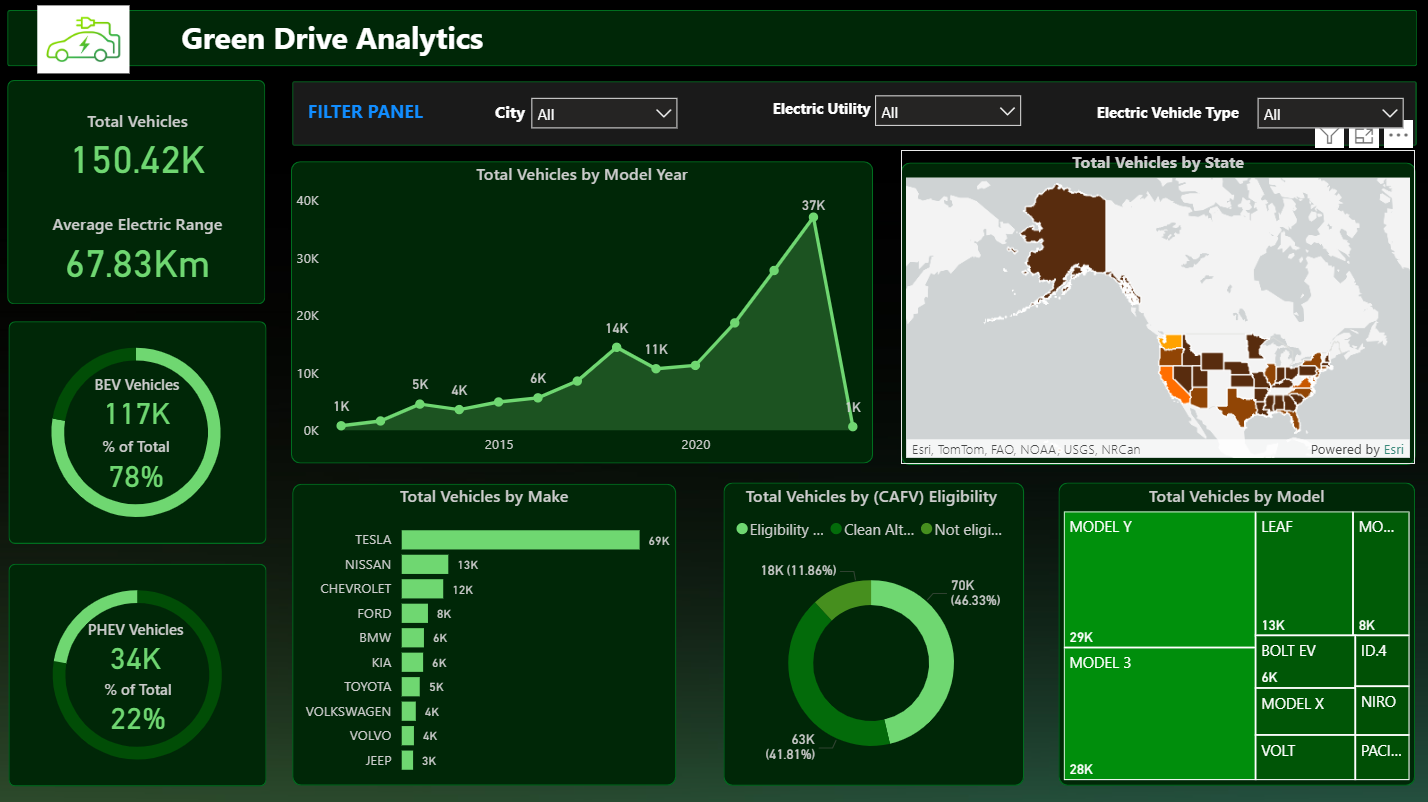

The dashboard page shown, as its layout file describes it:
{"tool":"powerbi","page":{"name":"Page 1","canvas":[1280,720],"ordinal":0},"visuals":[{"type":"shape","box":[10,8.9,1259.6,50.2],"z":0},{"type":"textbox","box":[160.8,10,298.1,50.2],"z":1000},{"type":"shape","box":[9.6,71.4,230.5,200.3],"z":2000},{"type":"image","box":[31.4,0,94.2,70.9],"z":3000},{"type":"card","title":"Total Vehicles","fields":{"Values":["Electric_Vehicle_Population_Data.Total Vehicles"]},"box":[11,97.4,230.5,65.9],"z":4000},{"type":"card","title":"Average Electric Range","fields":{"Values":["Electric_Vehicle_Population_Data.Avg Range"]},"box":[11,189.4,230.5,65.9],"z":5000},{"type":"shape","box":[11,286.8,230.5,199],"z":6000},{"type":"shape","box":[11,503.6,230.5,199],"z":7000},{"type":"donutChart","fields":{"Category":["Electric_Vehicle_Population_Data.Electric Vehicle Type"],"Y":["Electric_Vehicle_Population_Data.Total Vehicles"]},"box":[9.6,286.8,230.5,199],"z":8000},{"type":"card","title":"BEV Vehicles","fields":{"Values":["Electric_Vehicle_Population_Data.BEV Vehicles"]},"box":[64.5,333.4,122.1,50.8],"z":9000},{"type":"card","title":"% of Total","fields":{"Values":["Electric_Vehicle_Population_Data.% of BEV"]},"box":[64.5,389.7,120.8,52.1],"z":10000},{"type":"donutChart","fields":{"Category":["Electric_Vehicle_Population_Data.Electric Vehicle Type"],"Y":["Electric_Vehicle_Population_Data.Total Vehicles"]},"box":[11,503.6,230.5,199],"z":11000},{"type":"card","title":"PHEV Vehicles","fields":{"Values":["Electric_Vehicle_Population_Data.PHEV Vehicles"]},"box":[63.1,553,122.1,50.8],"z":12000},{"type":"card","title":"% of Total","fields":{"Values":["Electric_Vehicle_Population_Data.% of PHEV"]},"box":[65.9,606.5,122.1,50.8],"z":13000},{"type":"shape","box":[264.8,72.7,1004.5,57.6],"z":14000},{"type":"shape","box":[263.5,144.1,520,270],"z":15000},{"type":"areaChart","fields":{"Category":["Electric_Vehicle_Population_Data.Model Year"],"Y":["Electric_Vehicle_Population_Data.Total Vehicles"]},"box":[263.5,145.5,520.1,270.3],"z":16000},{"type":"shape","box":[808.2,145.5,459.7,270.3],"z":17000},{"type":"esriVisual","fields":{"Location":["Electric_Vehicle_Population_Data.State"],"Color":["Electric_Vehicle_Population_Data.Total Vehicles"]},"box":[808.2,134.5,459.7,279.9],"z":18000},{"type":"shape","box":[265.1,432.6,343,269.8],"z":19000},{"type":"barChart","fields":{"Category":["Electric_Vehicle_Population_Data.Make"],"Y":["Electric_Vehicle_Population_Data.Total Vehicles"]},"box":[265.1,432.6,343,269.8],"z":20000},{"type":"shape","box":[650,431.4,268.6,270.9],"z":21000},{"type":"donutChart","title":"Total Vehicles by (CAFV) Eligibility","fields":{"Category":["Electric_Vehicle_Population_Data.Clean Alternative Fuel Vehicle (CAFV) Eligibility"],"Y":["Electric_Vehicle_Population_Data.Total Vehicles"]},"box":[647.7,432.6,268.6,270.9],"z":22000},{"type":"shape","box":[948.8,431.4,318.6,270.9],"z":23000},{"type":"treemap","fields":{"Group":["Electric_Vehicle_Population_Data.Model"],"Values":["Electric_Vehicle_Population_Data.Total Vehicles"]},"box":[948.8,432.6,318.6,269.8],"z":24000},{"type":"textbox","box":[273.3,82.6,120.9,39.5],"z":25000},{"type":"slicer","fields":{"Values":["Electric_Vehicle_Population_Data.City"]},"box":[467.4,76.7,151.2,54.7],"z":26000},{"type":"textbox","box":[425.6,84.9,67.4,38.4],"z":27000},{"type":"slicer","fields":{"Values":["Electric_Vehicle_Population_Data.Electric Utility"]},"box":[774.4,74.4,151.2,54.7],"z":28000},{"type":"textbox","box":[665.1,82.6,144.2,38.4],"z":29000},{"type":"slicer","fields":{"Values":["Electric_Vehicle_Population_Data.Electric Vehicle Type"]},"box":[1116.3,76.7,151.2,54.7],"z":30000},{"type":"textbox","box":[976.7,86,139.5,38.4],"z":31000}]}

Visuals, with their boxes in screenshot pixels (x1, y1, x2, y2), scaled from the page's 1280x720 canvas onto the 1428x802 screenshot:
shape: <bbox>11, 10, 1416, 66</bbox>
textbox: <bbox>179, 11, 512, 67</bbox>
shape: <bbox>11, 80, 268, 303</bbox>
image: <bbox>35, 0, 140, 79</bbox>
"Total Vehicles" card: <bbox>12, 108, 269, 182</bbox>
"Average Electric Range" card: <bbox>12, 211, 269, 284</bbox>
shape: <bbox>12, 319, 269, 541</bbox>
shape: <bbox>12, 561, 269, 783</bbox>
donutChart - Electric_Vehicle_Population_Data.Electric Vehicle Type x Electric_Vehicle_Population_Data.Total Vehicles: <bbox>11, 319, 268, 541</bbox>
"BEV Vehicles" card: <bbox>72, 371, 208, 428</bbox>
"% of Total" card: <bbox>72, 434, 207, 492</bbox>
donutChart - Electric_Vehicle_Population_Data.Electric Vehicle Type x Electric_Vehicle_Population_Data.Total Vehicles: <bbox>12, 561, 269, 783</bbox>
"PHEV Vehicles" card: <bbox>70, 616, 207, 673</bbox>
"% of Total" card: <bbox>74, 676, 210, 732</bbox>
shape: <bbox>295, 81, 1416, 145</bbox>
shape: <bbox>294, 161, 874, 461</bbox>
areaChart - Electric_Vehicle_Population_Data.Model Year x Electric_Vehicle_Population_Data.Total Vehicles: <bbox>294, 162, 874, 463</bbox>
shape: <bbox>902, 162, 1415, 463</bbox>
esriVisual - Electric_Vehicle_Population_Data.State x Electric_Vehicle_Population_Data.Total Vehicles: <bbox>902, 150, 1415, 462</bbox>
shape: <bbox>296, 482, 678, 782</bbox>
barChart - Electric_Vehicle_Population_Data.Make x Electric_Vehicle_Population_Data.Total Vehicles: <bbox>296, 482, 678, 782</bbox>
shape: <bbox>725, 481, 1025, 782</bbox>
"Total Vehicles by (CAFV) Eligibility" donutChart: <bbox>723, 482, 1022, 784</bbox>
shape: <bbox>1059, 481, 1414, 782</bbox>
treemap - Electric_Vehicle_Population_Data.Model x Electric_Vehicle_Population_Data.Total Vehicles: <bbox>1059, 482, 1414, 782</bbox>
textbox: <bbox>305, 92, 440, 136</bbox>
slicer - Electric_Vehicle_Population_Data.City: <bbox>521, 85, 690, 146</bbox>
textbox: <bbox>475, 95, 550, 137</bbox>
slicer - Electric_Vehicle_Population_Data.Electric Utility: <bbox>864, 83, 1033, 144</bbox>
textbox: <bbox>742, 92, 903, 135</bbox>
slicer - Electric_Vehicle_Population_Data.Electric Vehicle Type: <bbox>1245, 85, 1414, 146</bbox>
textbox: <bbox>1090, 96, 1245, 139</bbox>
